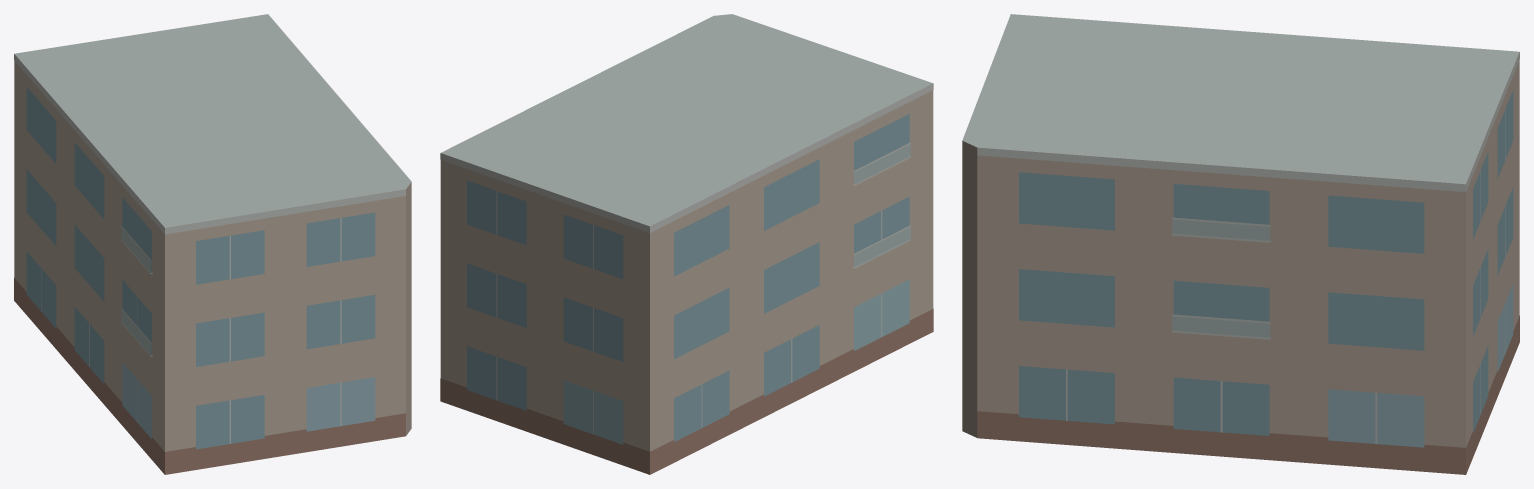
Rendered from survey-upis-32665582.glb.
The picture shows the model from 3 angles, left to right: view 1: azimuth 30°, elevation 25°; view 2: azimuth 150°, elevation 25°; view 3: azimuth 270°, elevation 25°; orthographic projection. The views are drawn at different scales.
Visible parts, largest first — view 1: survey-upis-32665582.tmp; view 2: survey-upis-32665582.tmp; view 3: survey-upis-32665582.tmp.
Boxes of the visible parts, <box> form: survey-upis-32665582.tmp: <box>14,14,411,474</box>; survey-upis-32665582.tmp: <box>440,14,933,474</box>; survey-upis-32665582.tmp: <box>962,14,1519,474</box>.
Bounding box in the file's own units: 11.45 × 9.1 × 15.83.
